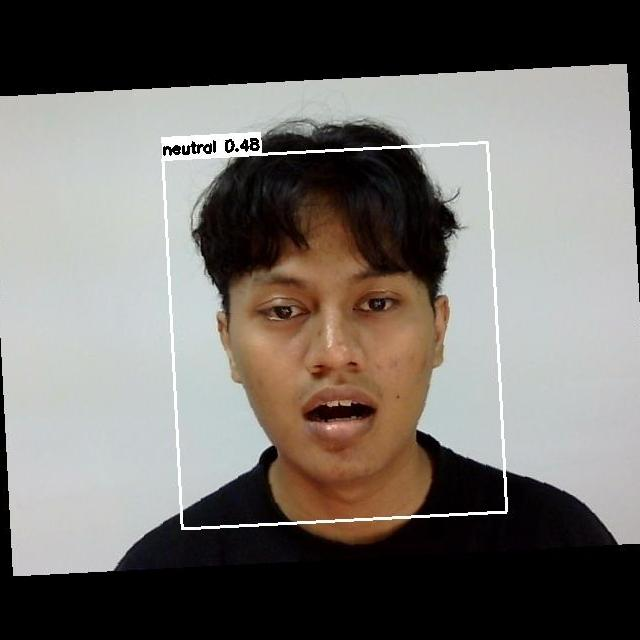Surprised: (215, 221, 430, 455)
